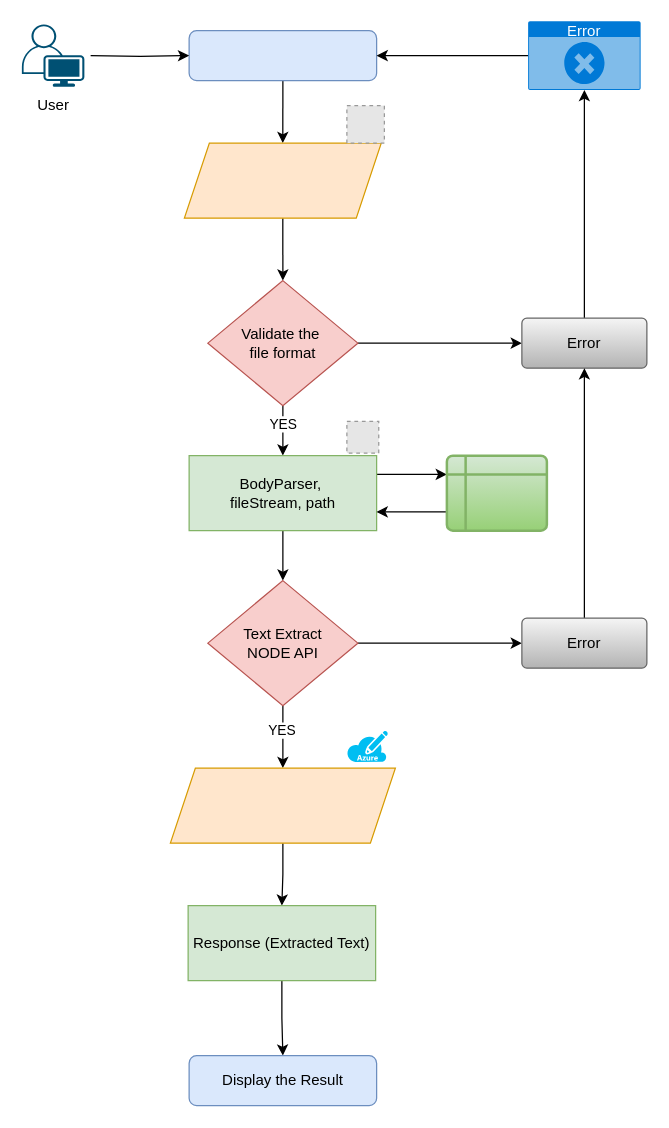
Some shapes in this 669 by 1128 pixel diagram are drawn without their labels. Grey dashed boxes stand in for pictures. Each missing label, with the centre of its shape:
Azure AI Document Intelligence Analysis API: the point at 282,805
File Storage: the point at 496,492
Start: the point at 282,55
Upload Files (png, jpeg, jpg, pdf, word etc.): the point at 282,180
